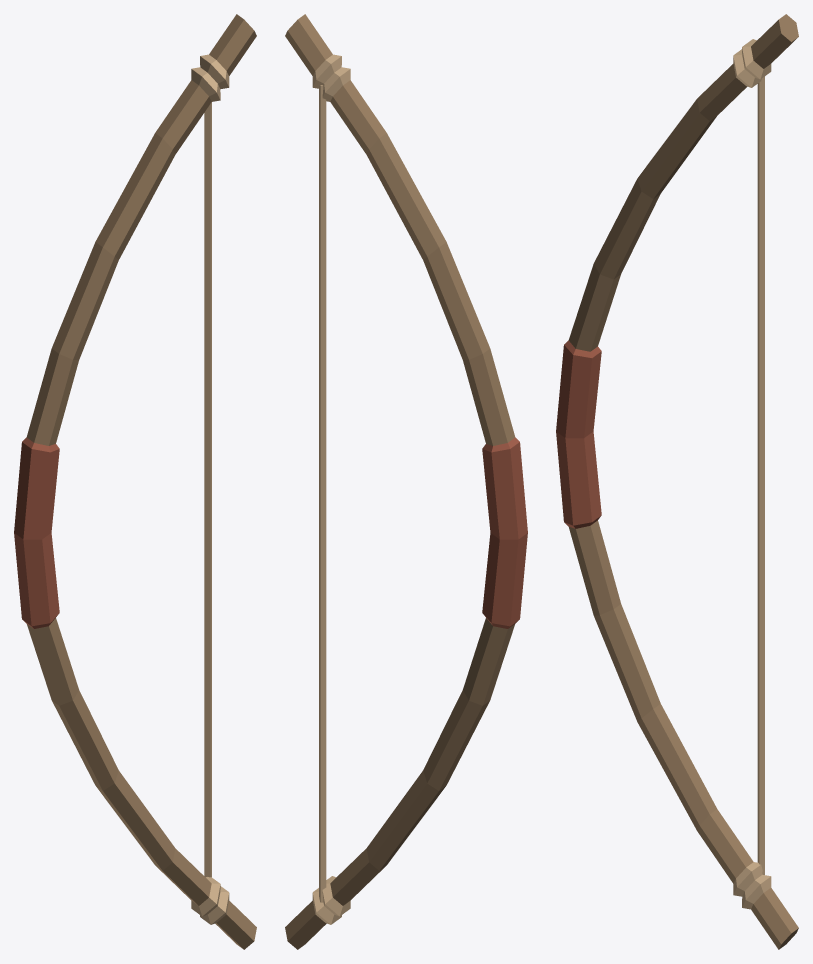
File: SM_pwe_egypt_bow_03.fbx
3 views of the same model, side by side, from view 1: azimuth 30°, elevation 25°; view 2: azimuth 150°, elevation 25°; view 3: azimuth 330°, elevation 25° (orthographic).
Visible parts, largest first — view 1: SM_pwe_egypt_bow_03; view 2: SM_pwe_egypt_bow_03; view 3: SM_pwe_egypt_bow_03.
Part boxes in pixels (box(x1,y1,x2,y2)): SM_pwe_egypt_bow_03: box(14, 14, 256, 949); SM_pwe_egypt_bow_03: box(285, 14, 527, 949); SM_pwe_egypt_bow_03: box(556, 14, 798, 949).
Bounding box in the file's own units: 19.68 × 74.59 × 3.16.
